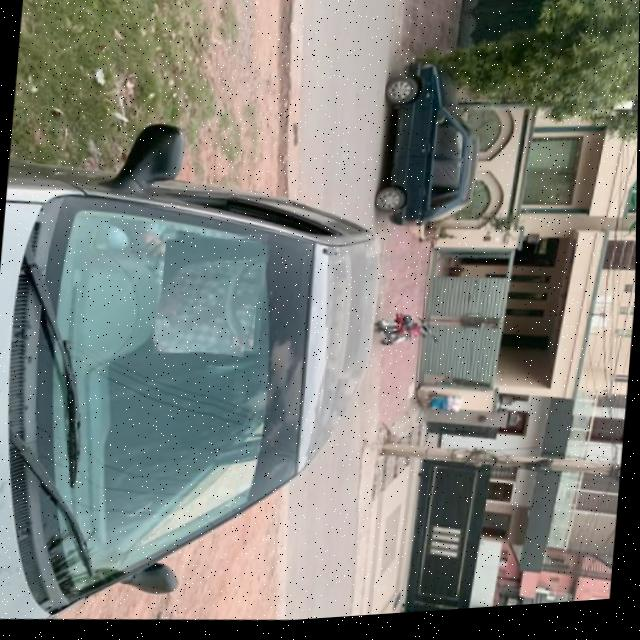seatbelt: (152, 230, 267, 363)
